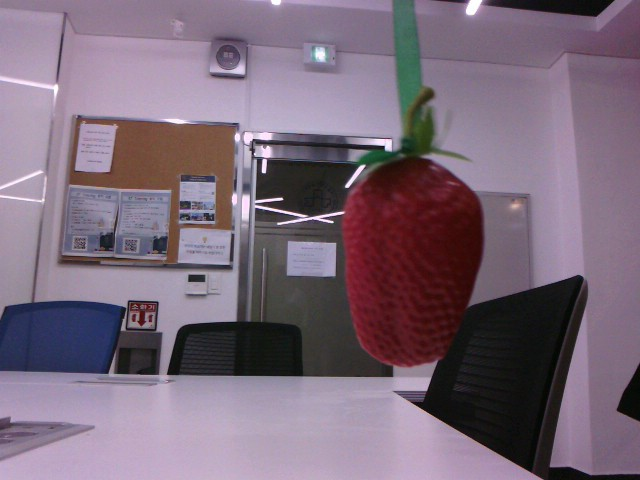strawberry: (344, 144, 482, 370)
